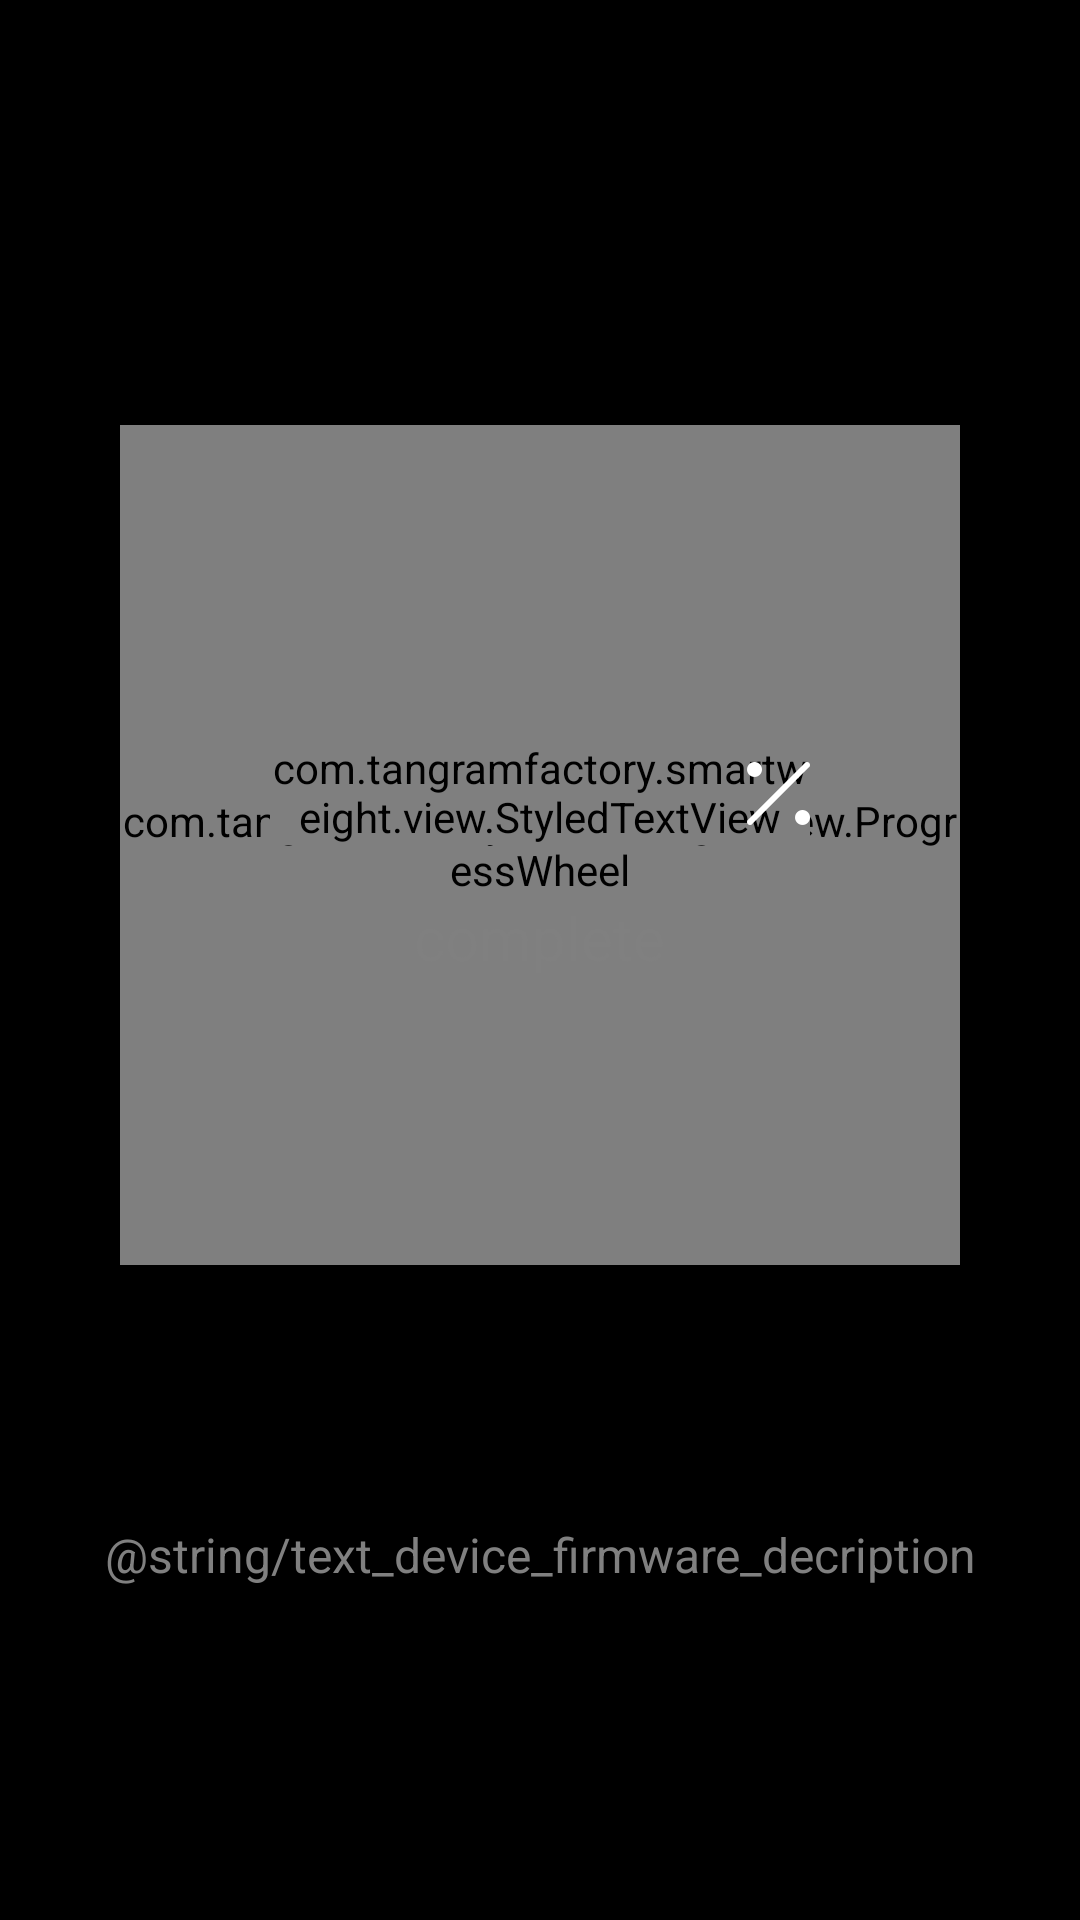

Icons on this 1080×1920 Android screen, each with its box as (x1, y1, x2, y2):
dot per nor: (747, 756, 810, 833)
